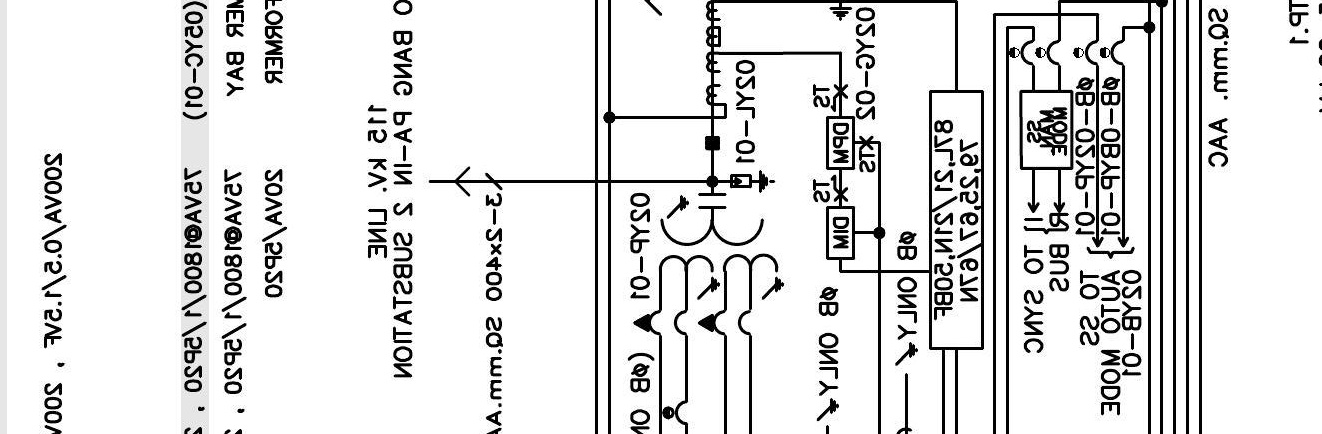115_cvt_1p: (632, 192, 785, 338)
115_la: (730, 169, 776, 193)
DIM: (826, 206, 855, 260)
DPM: (826, 116, 855, 170)
ss_man_mode: (1019, 90, 1074, 170)
